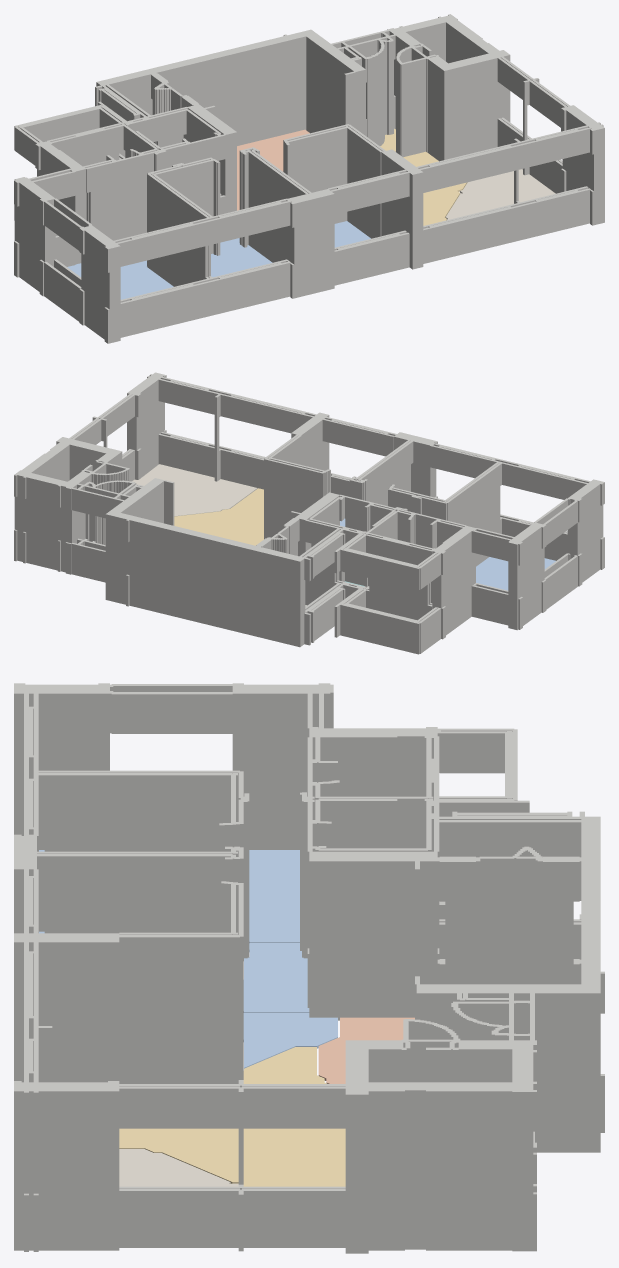
3 views of the same model, one above another, from view 1: azimuth 30°, elevation 25°; view 2: azimuth 150°, elevation 25°; view 3: azimuth 270°, elevation 25° (orthographic). The views are drawn at different scales.
Visible parts, largest first — view 1: walls, room:other:8, room:living:5, room:bedroom:9, room:bedroom:6, room:kitchen:2, room:bedroom:7; view 2: walls, room:other:8, room:living:5, room:bedroom:9; view 3: walls, room:living:5, room:bedroom:9, room:bedroom:6, room:bedroom:7, room:other:8, room:kitchen:2.
Part boxes in pixels (x1,y1,x2,y2): walls: (14, 14, 604, 343); room:other:8: (445, 169, 555, 220); room:living:5: (380, 128, 467, 225); room:bedroom:9: (67, 260, 173, 299); room:bedroom:6: (211, 238, 272, 277); room:kitchen:2: (237, 129, 309, 210); room:bedroom:7: (334, 221, 370, 247); walls: (14, 372, 604, 654); room:other:8: (132, 464, 257, 516); room:living:5: (174, 488, 263, 545); room:bedroom:9: (476, 557, 555, 590); walls: (14, 683, 604, 1253); room:living:5: (119, 1047, 345, 1186); room:bedroom:9: (39, 850, 299, 942); room:bedroom:6: (39, 931, 309, 1012); room:bedroom:7: (243, 1012, 337, 1068); room:other:8: (119, 1149, 238, 1186); room:kitchen:2: (318, 1017, 414, 1083).
Size of the model in its own units: 15.51 by 2.8 by 9.42.
